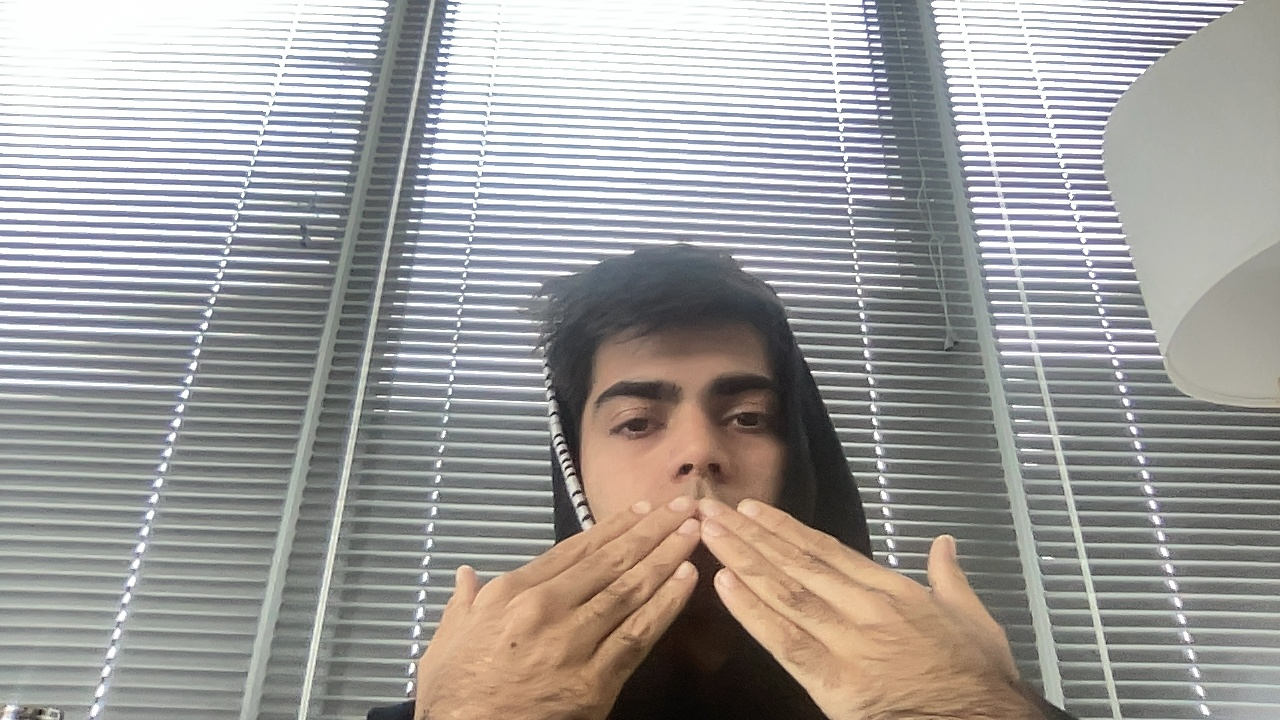thank you: (364, 423, 1084, 720)
